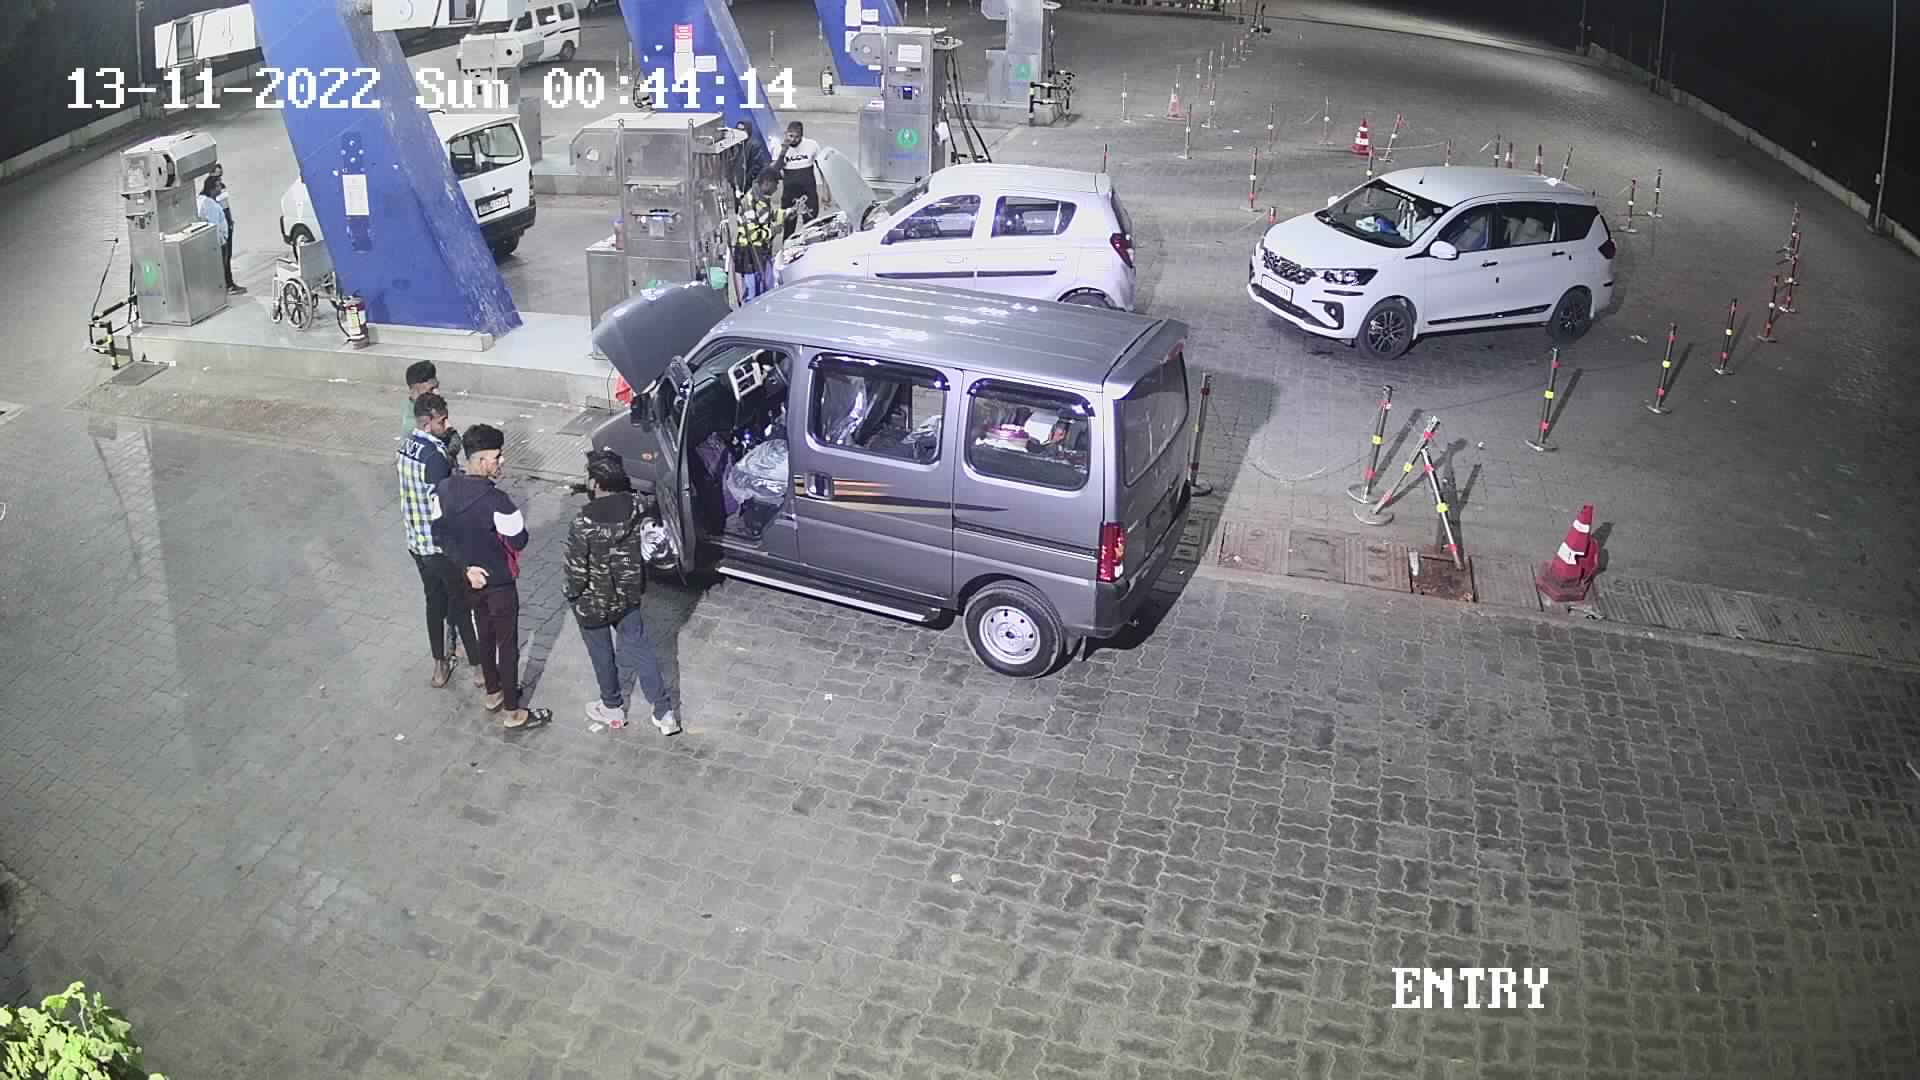Car: (560, 264, 1199, 683), (1247, 146, 1626, 372), (753, 144, 1145, 320), (422, 92, 543, 274), (451, 0, 591, 83)
